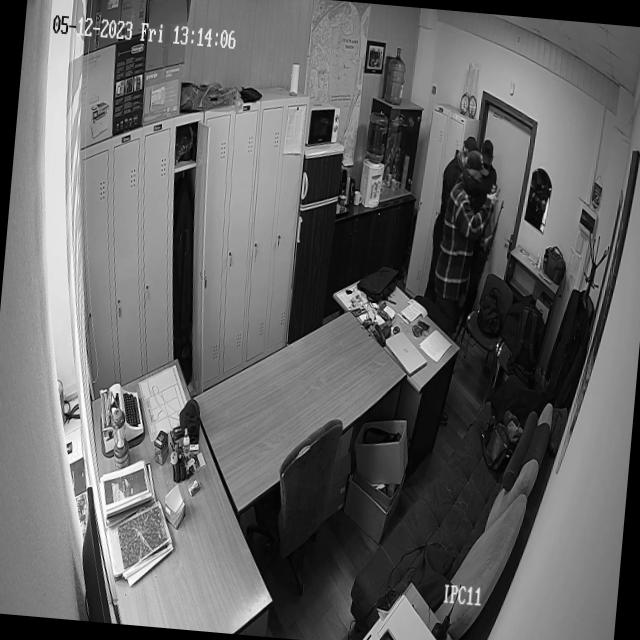gun: (472, 196, 505, 325)
person with a gun: (436, 152, 507, 322)
